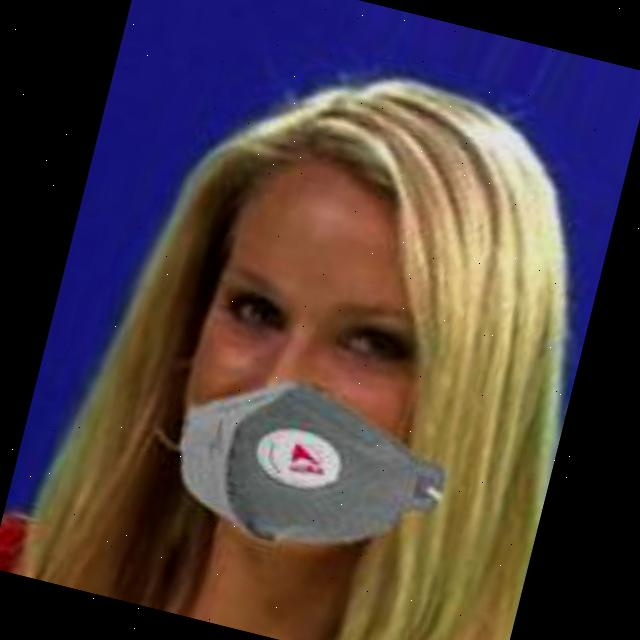suspicion: (147, 125, 502, 577)
